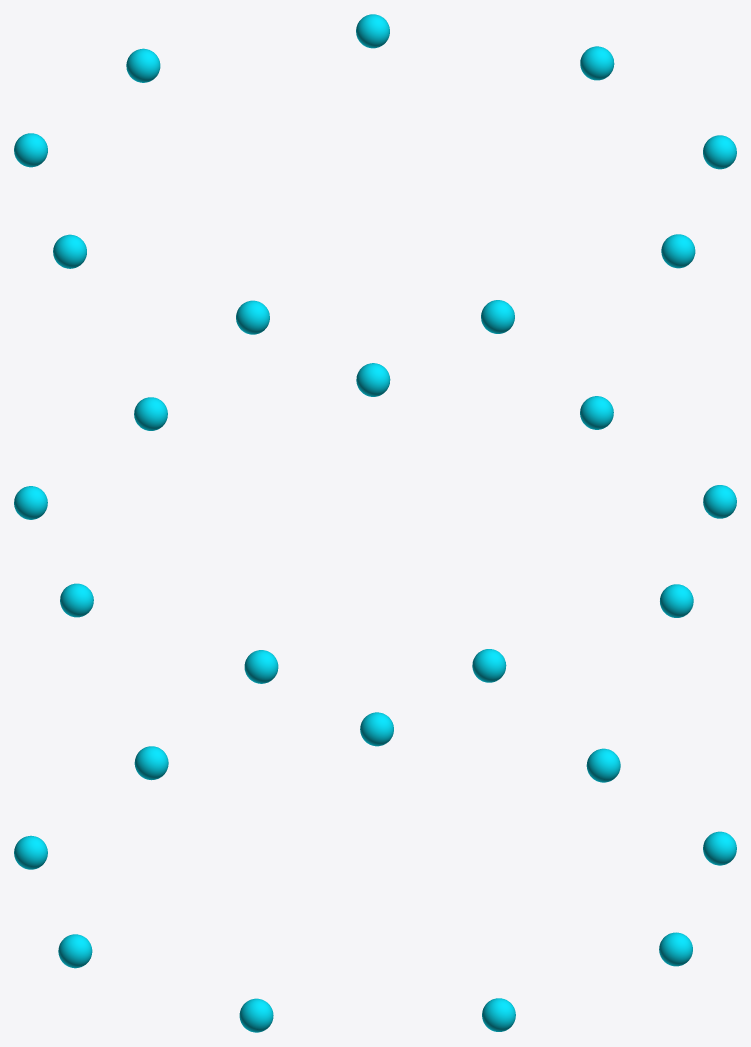
The picture shows the model from 3 angles, top to bottom: view 1: azimuth 30°, elevation 25°; view 2: azimuth 150°, elevation 25°; view 3: azimuth 270°, elevation 25°; orthographic projection.
Parts seen in each view (by area): view 1: Sphere050; view 2: Sphere050; view 3: Sphere050.
Part boxes in pixels (<box>): Sphere050: <box>14,14,736,334</box>; Sphere050: <box>14,363,736,683</box>; Sphere050: <box>14,712,736,1032</box>.
Bounding box in the file's own units: 172 × 8.22 × 175.
